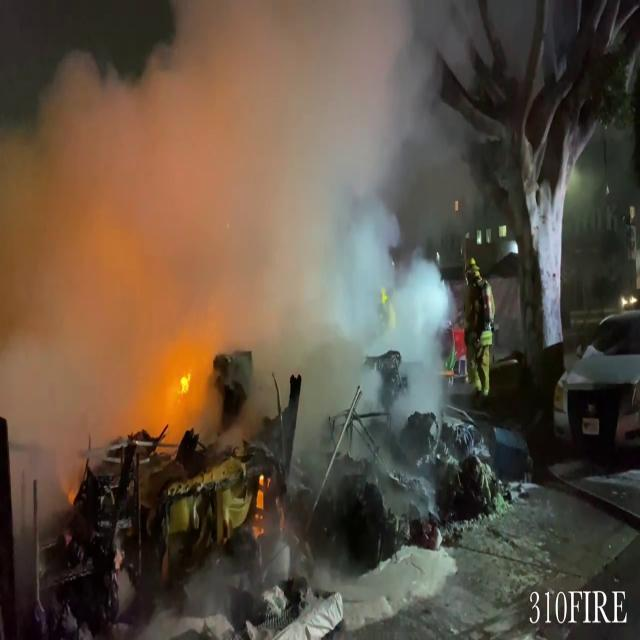Smoke: (1, 0, 452, 487)
